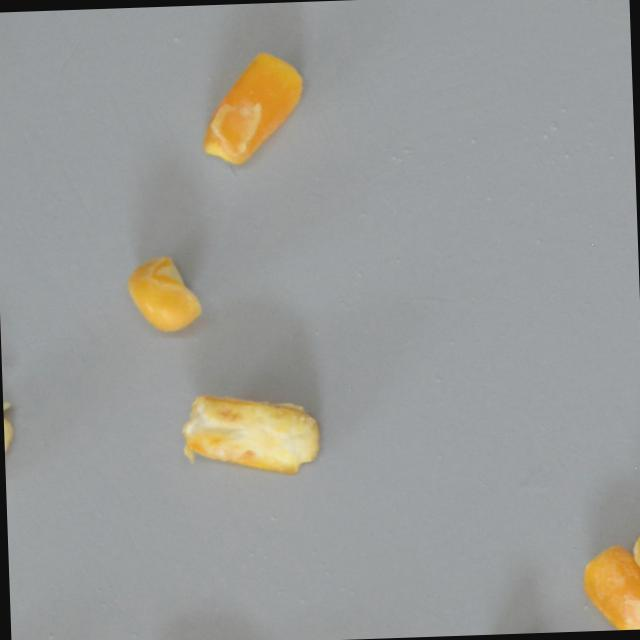pelicula: (198, 47, 310, 167), (179, 387, 323, 479), (125, 253, 204, 333), (579, 543, 640, 631), (3, 403, 18, 519), (630, 522, 640, 607)
